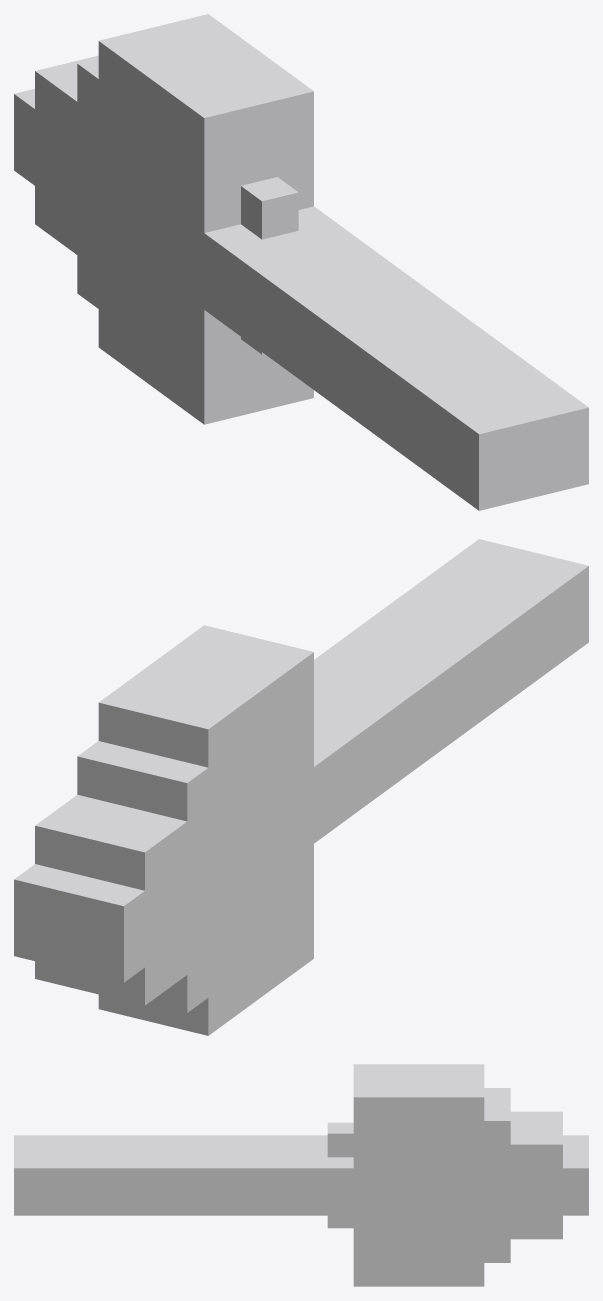
Rendered from Medieval Assets-1-Exit Node - Arrow.obj.
The picture shows the model from 3 angles, top to bottom: view 1: azimuth 30°, elevation 25°; view 2: azimuth 150°, elevation 25°; view 3: azimuth 270°, elevation 25°; orthographic projection. The views are drawn at different scales.
Visible parts, largest first — view 1: Exit Node - Arrow; view 2: Exit Node - Arrow; view 3: Exit Node - Arrow.
Boxes of the visible parts, bbox=[...] form: Exit Node - Arrow: bbox=[14, 14, 588, 510]; Exit Node - Arrow: bbox=[14, 539, 588, 1035]; Exit Node - Arrow: bbox=[14, 1064, 588, 1286].
Size of the model in its own units: 0.3 by 0.8 by 2.2.
1 material, 1 textured.
